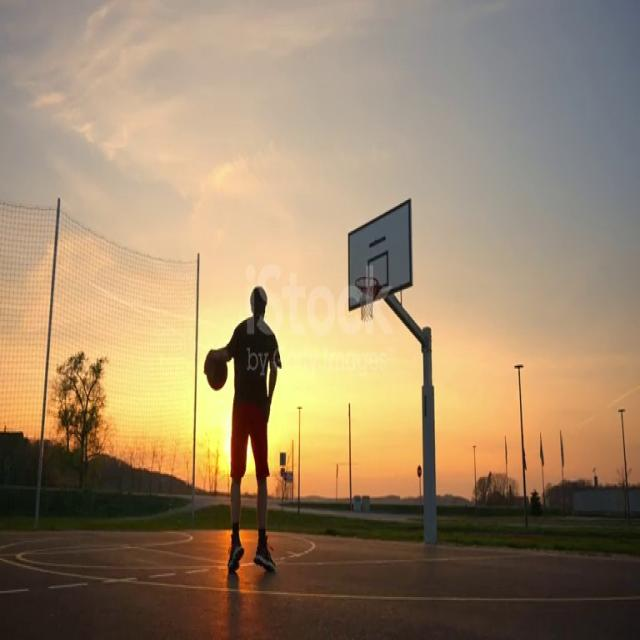ball: (204, 350, 227, 391)
